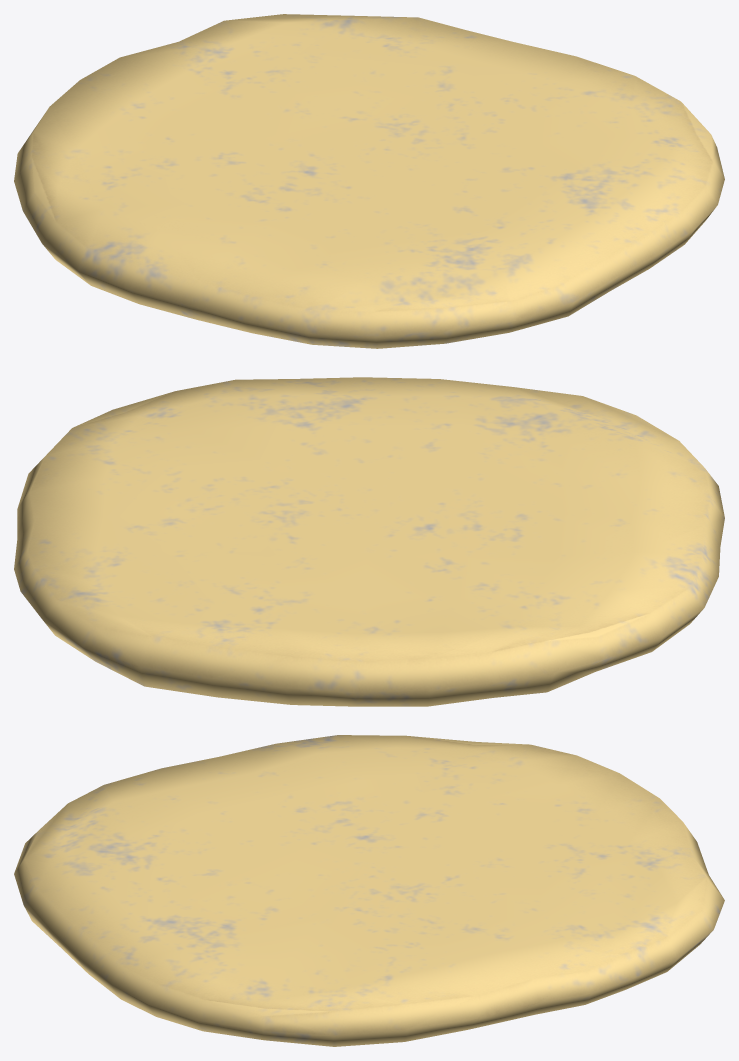
The model's file is Coin.fbx.
3 views of the same model, one above another, from view 1: azimuth 30°, elevation 25°; view 2: azimuth 150°, elevation 25°; view 3: azimuth 270°, elevation 25° (orthographic). The views are drawn at different scales.
Parts seen in each view (by area): view 1: Cylinder.004; view 2: Cylinder.004; view 3: Cylinder.004.
Boxes of the visible parts, left/top/right/bottom form: Cylinder.004: left=14, top=14, right=724, bottom=348; Cylinder.004: left=14, top=377, right=724, bottom=706; Cylinder.004: left=14, top=735, right=724, bottom=1046.
Bounding box in the file's own units: 0.1131 × 0.00895 × 0.1156.
Materials: 1 (1 with a texture image).
